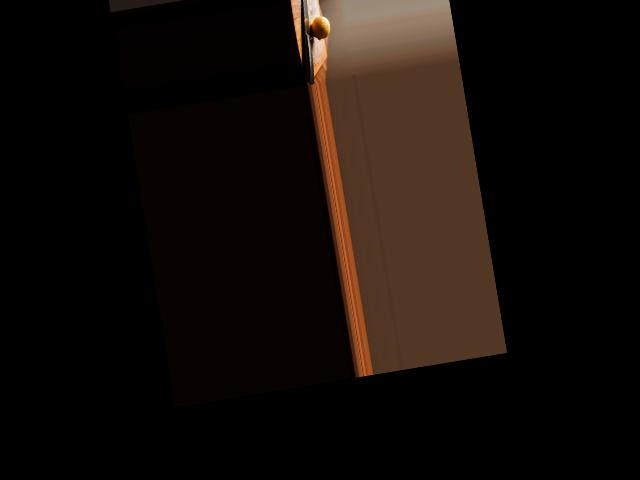lemon: (309, 14, 334, 42)
